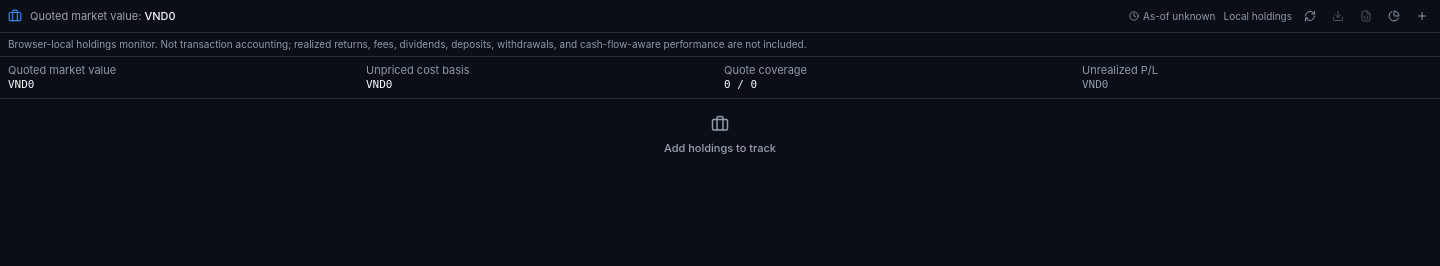
it: Holdings Tracker saved positions › renders a flat session with no arrow and no direction colour
Click the button titled "Add position" at (1422, 16), box [1412,6,1432,26]
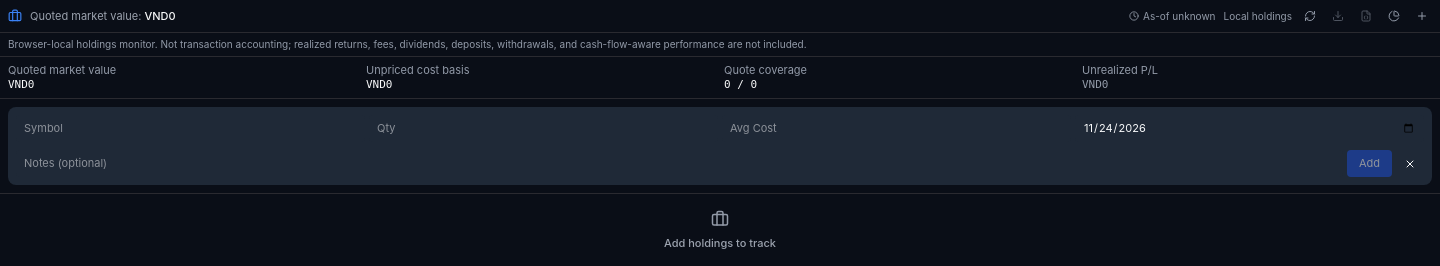
Type "FPT" into the field with placeholder "Symbol" at (190, 129), box [16,115,365,142]
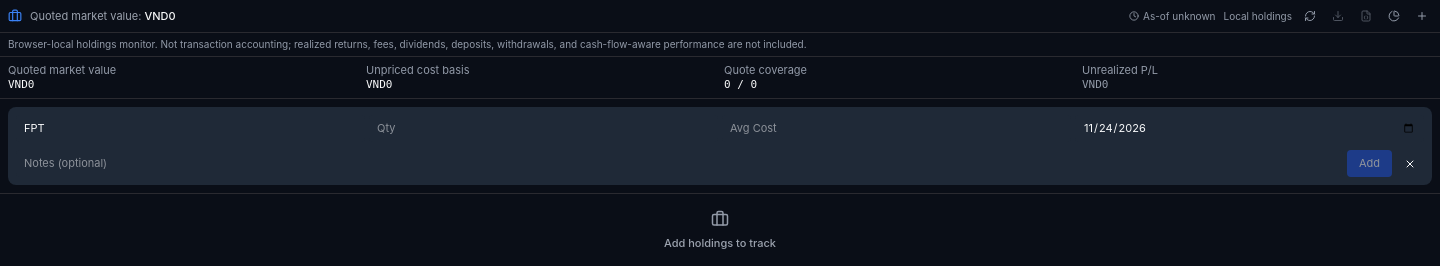
Type "2" into the number field with placeholder "Qty" at (544, 129), box [369,115,718,142]
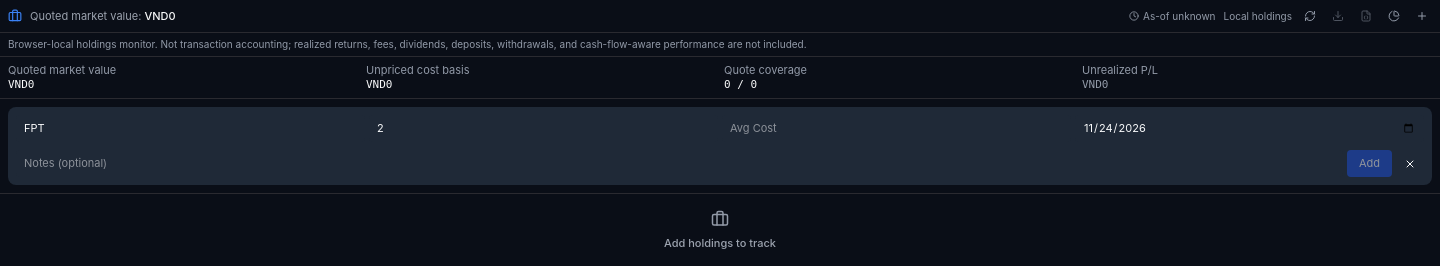
Type "1000" into the number field with placeholder "Avg Cost" at (896, 129), box [722,115,1071,142]
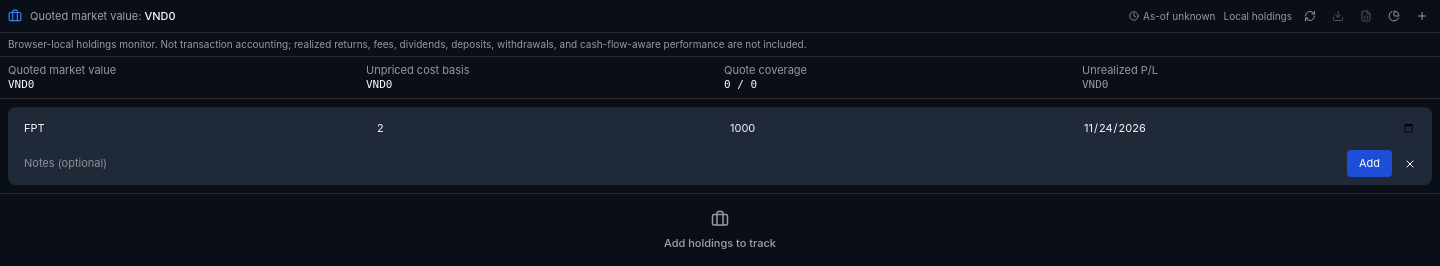
Click the button "Add" at (1369, 164), box [1347,150,1392,177]
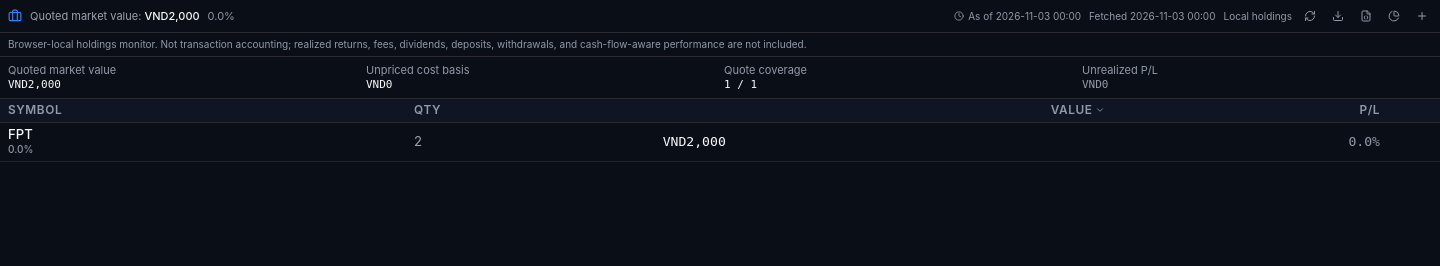
expect the 2nd text "0.0%" is shown: met, box [8,143,33,157]
